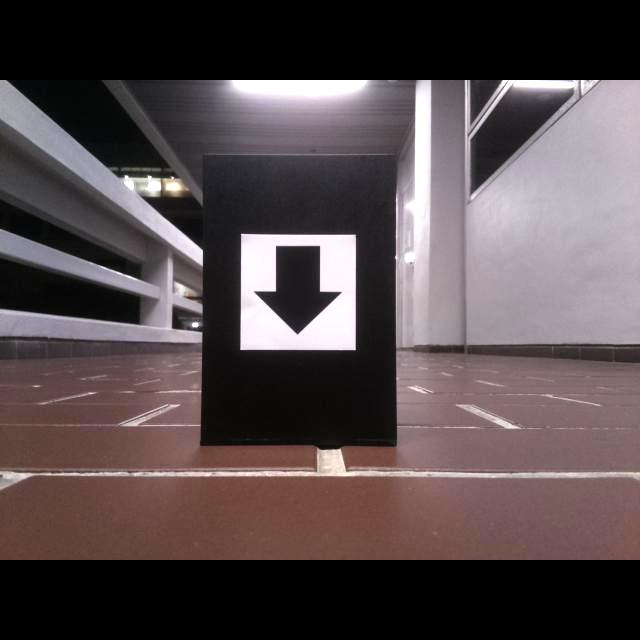DOWN: (252, 245, 343, 337)
